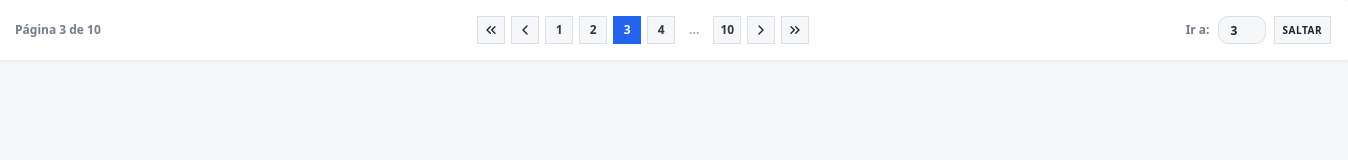
Test: Pagination › restaura la página actual si se envía el campo vacío
The width and height of the screenshot is (1348, 160).
Clear the number field labelled "Ir a:" at (1242, 30), box [1218,16,1266,44]
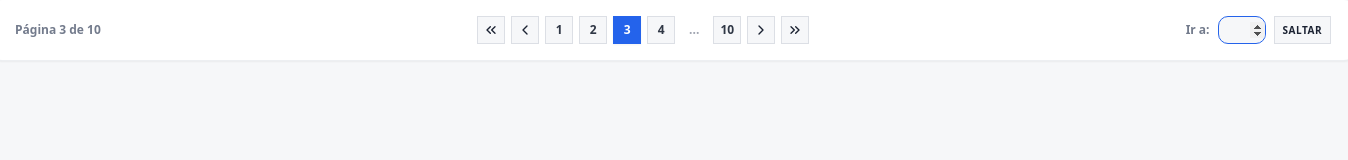
Click the button "Saltar" at (1302, 30), box [1274,16,1331,44]
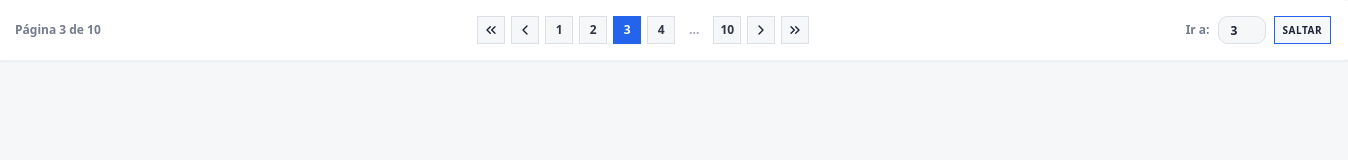
Check: the number field labelled "Ir a:" holds "3", box [1218,16,1266,44]
